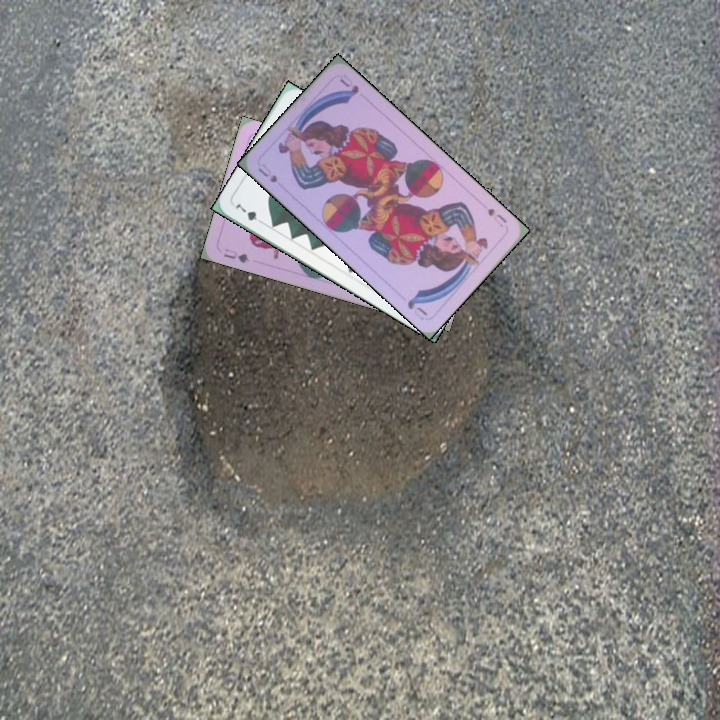G7: (231, 199, 267, 226)
GU: (220, 245, 252, 266)
SU: (254, 159, 280, 185), (483, 204, 509, 229)
